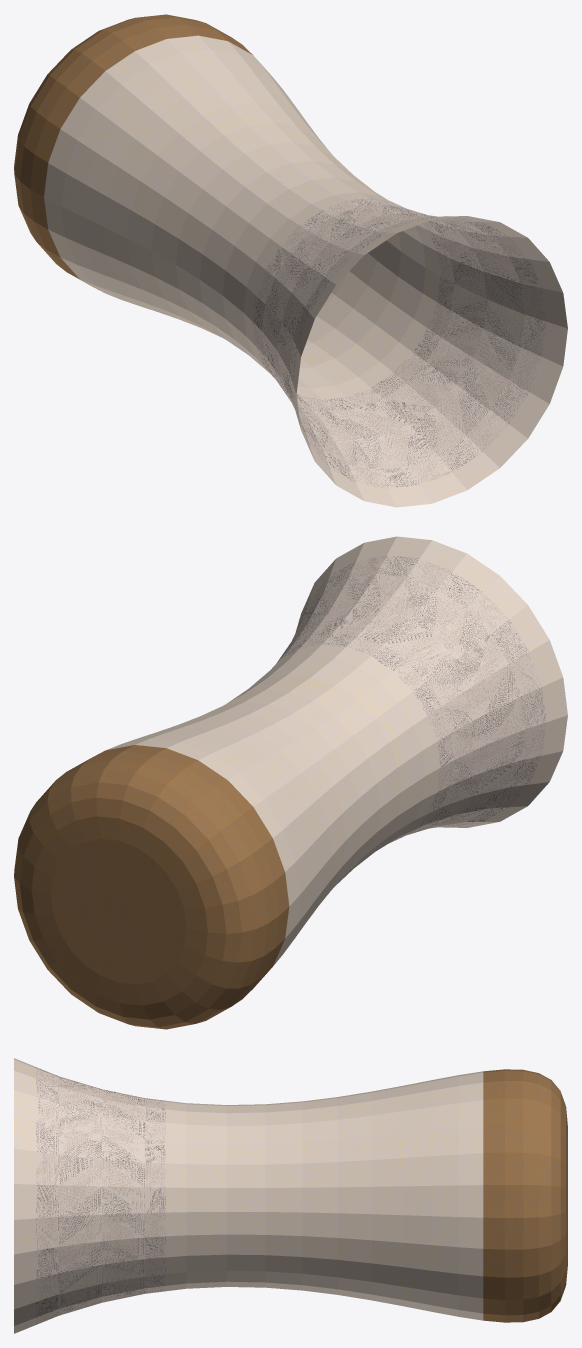
3 views of the same model, one above another, from view 1: azimuth 30°, elevation 25°; view 2: azimuth 150°, elevation 25°; view 3: azimuth 270°, elevation 25° (orthographic). The views are drawn at different scales.
Parts seen in each view (by area): view 1: native american pottery; view 2: native american pottery; view 3: native american pottery.
Part boxes in pixels (x1=…): native american pottery: x1=14, y1=14, x2=567, y2=507; native american pottery: x1=14, y1=536, x2=567, y2=1029; native american pottery: x1=14, y1=1058, x2=567, y2=1333.
Bounding box in the file's own units: 24 × 24 × 48.
